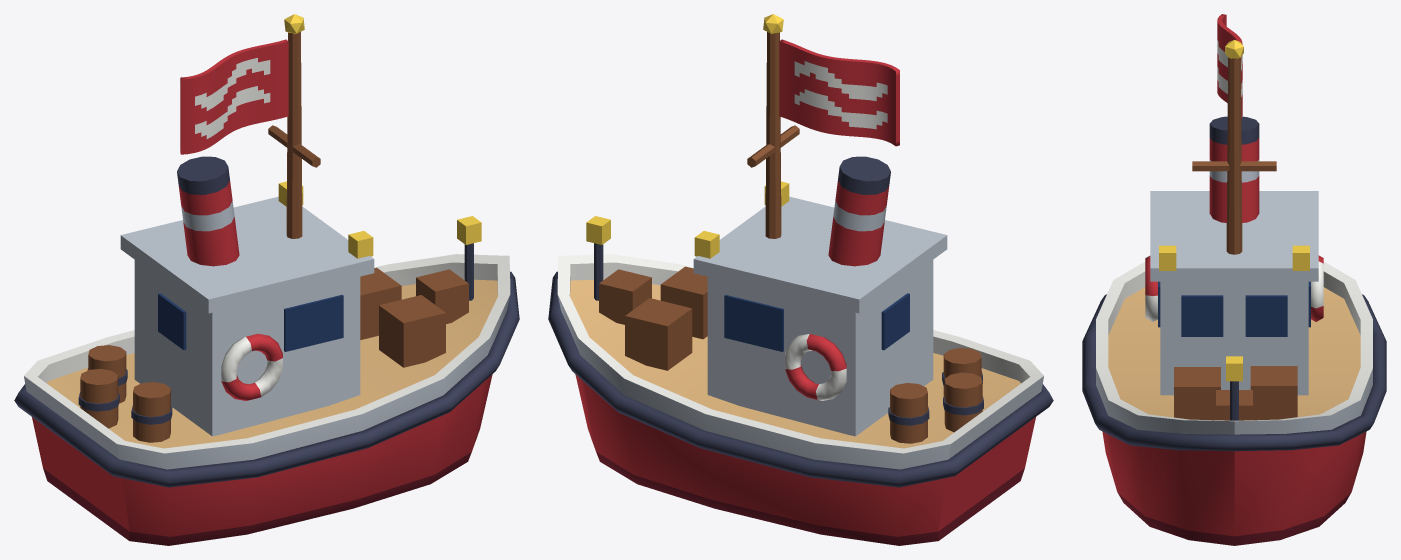
File: pixel-art.glb
3 views of the same model, side by side, from view 1: azimuth 30°, elevation 25°; view 2: azimuth 150°, elevation 25°; view 3: azimuth 270°, elevation 25° (orthographic). The views are drawn at different scales.
Visible parts, largest first — view 1: hull, cabin, roof, fender, flag, funnel, crate.001, mast, ring_stbd, barrel.001, barrel.002, crate.002 (+4 smaller); view 2: hull, cabin, roof, fender, flag, funnel, crate, mast, ring_port, barrel, crate.002, crate.001 (+4 smaller); view 3: hull, cabin, roof, fender, mast, funnel, crate, crate.001, flag, crate.002, ring_port, ring_stbd (+3 smaller).
Boxes of the visible parts, <box> form: hull: <box>24,254,510,545</box>; cabin: <box>134,260,360,436</box>; roof: <box>120,196,374,313</box>; fender: <box>14,271,519,487</box>; flag: <box>180,39,288,154</box>; funnel: <box>177,156,239,266</box>; crate.001: <box>379,295,445,367</box>; mast: <box>268,32,320,238</box>; ring_stbd: <box>221,333,282,400</box>; barrel.001: <box>131,382,172,442</box>; barrel.002: <box>78,369,119,428</box>; crate.002: <box>416,269,468,323</box>; hull: <box>557,254,1043,545</box>; cabin: <box>707,260,933,436</box>; roof: <box>693,196,947,313</box>; fender: <box>548,271,1053,487</box>; flag: <box>779,39,899,146</box>; funnel: <box>828,156,890,266</box>; crate: <box>625,298,692,370</box>; mast: <box>747,32,799,238</box>; ring_port: <box>785,333,846,400</box>; barrel: <box>888,383,929,443</box>; crate.002: <box>599,269,651,324</box>; crate.001: <box>660,266,707,339</box>; hull: <box>1096,261,1372,545</box>; cabin: <box>1158,281,1310,395</box>; roof: <box>1150,191,1318,281</box>; fender: <box>1082,294,1386,451</box>; mast: <box>1192,57,1276,254</box>; funnel: <box>1209,116,1259,222</box>; crate: <box>1250,366,1297,420</box>; crate.001: <box>1174,367,1220,420</box>; flag: <box>1217,14,1242,119</box>; crate.002: <box>1216,390,1252,420</box>; ring_port: <box>1311,255,1323,321</box>; ring_stbd: <box>1145,255,1157,321</box>.
Size of the model in its own units: 2.02 by 1.9 by 1.23.
